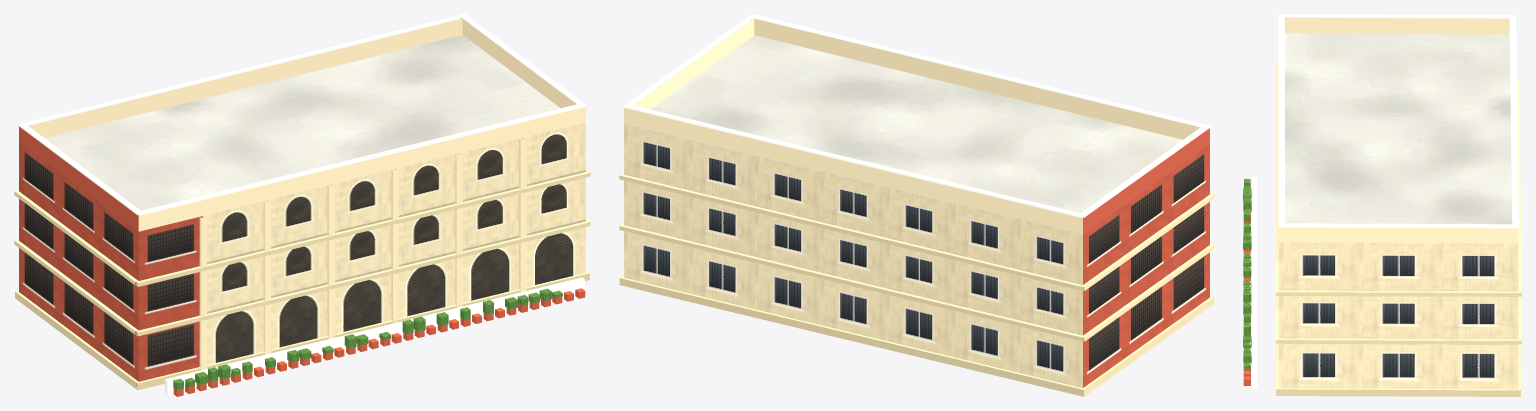
File: high-school.glb
The picture shows the model from 3 angles, left to right: view 1: azimuth 30°, elevation 25°; view 2: azimuth 150°, elevation 25°; view 3: azimuth 270°, elevation 25°; orthographic projection. The views are drawn at different scales.
Parts seen in each view (by area): view 1: High School; view 2: High School; view 3: High School.
Boxes of the visible parts, x1,y1,x2,y2 form: High School: (14,14,590,396); High School: (619,14,1214,396); High School: (1243,14,1521,396).
Size of the model in its own units: 24.63 by 9 by 13.47.
Materials: 1 (1 with a texture image).
